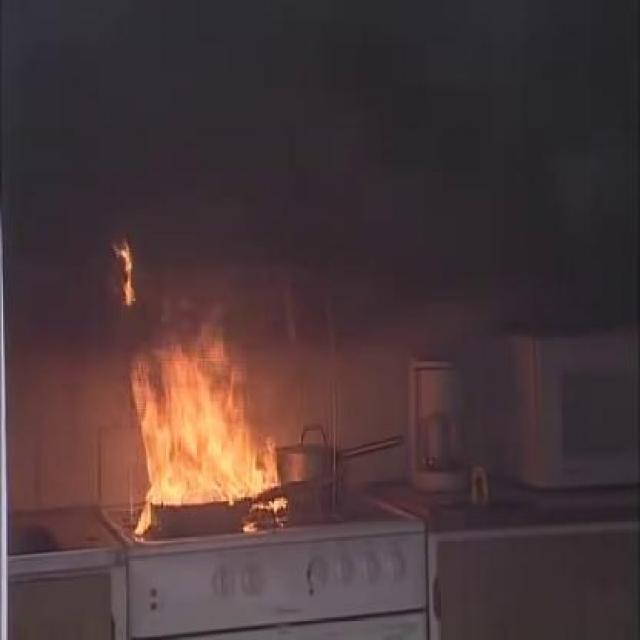fire: (112, 234, 300, 510)
